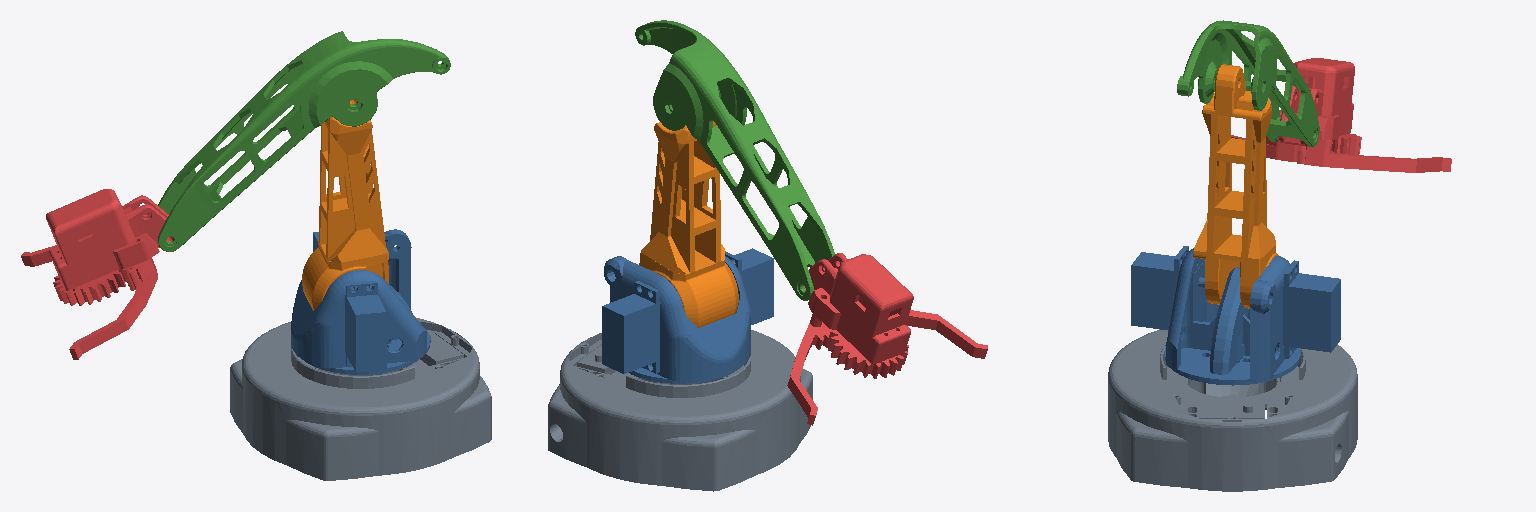
URDF robot description (digital_twin_arm):
<?xml version="1.0" encoding="UTF-8"?>
<!--
  Auto-generated from front/web/joints.json
  Source SLDASM: (29课最后保存)(答案)夹爪装配体.SLDASM | 装配体（整体）4.SLDASM
  Notes:
  1) This URDF uses current demo chain base->j1->j2->j3->j4.
  2) STL coordinates are assumed to be assembly-global (mm), so link visual origins are auto-offset.
  3) STL mesh scale is set to 0.001 (mm -> m).
-->
<robot name="digital_twin_arm">

  <link name="link_base">
    <visual name="visual_1">
      <origin xyz="0.000000 0.000000 0.000000" rpy="0 0 0"/>
      <geometry>
        <mesh filename="../raw/suarmt_global_base_link.STL" scale="0.001 0.001 0.001"/>
      </geometry>
      <material name="mat_base_1">
        <color rgba="0.4941 0.5412 0.5922 1.0"/>
      </material>
    </visual>
  </link>

  <link name="link_j1">
    <visual name="visual_1">
      <origin xyz="0.057106 0.180872 0.220243" rpy="0 0 0"/>
      <geometry>
        <mesh filename="../raw/suarmt_global_01.STL" scale="0.001 0.001 0.001"/>
      </geometry>
      <material name="mat_j1_1">
        <color rgba="0.3059 0.4745 0.6549 1.0"/>
      </material>
    </visual>
  </link>

  <link name="link_j2">
    <visual name="visual_1">
      <origin xyz="0.055953 0.188362 0.174243" rpy="0 0 0"/>
      <geometry>
        <mesh filename="../raw/suarmt_global_02.STL" scale="0.001 0.001 0.001"/>
      </geometry>
      <material name="mat_j2_1">
        <color rgba="0.9490 0.5569 0.1686 1.0"/>
      </material>
    </visual>
  </link>

  <link name="link_j3">
    <visual name="visual_1">
      <origin xyz="0.064622 0.179857 0.039246" rpy="0 0 0"/>
      <geometry>
        <mesh filename="../raw/suarmt_global_03.STL" scale="0.001 0.001 0.001"/>
      </geometry>
      <material name="mat_j3_1">
        <color rgba="0.3490 0.6314 0.3098 1.0"/>
      </material>
    </visual>
  </link>

  <link name="link_j4">
    <visual name="visual_1">
      <origin xyz="0.176396 0.143260 0.124058" rpy="0 0 0"/>
      <geometry>
        <mesh filename="../raw/suarmt_global_04.STL" scale="0.001 0.001 0.001"/>
      </geometry>
      <material name="mat_j4_1">
        <color rgba="0.8824 0.3412 0.3490 1.0"/>
      </material>
    </visual>
    <visual name="visual_2">
      <origin xyz="0.176396 0.143260 0.124058" rpy="0 0 0"/>
      <geometry>
        <mesh filename="../raw/suarmt_global_05.STL" scale="0.001 0.001 0.001"/>
      </geometry>
      <material name="mat_j4_2">
        <color rgba="0.8824 0.3412 0.3490 1.0"/>
      </material>
    </visual>
    <visual name="visual_3">
      <origin xyz="0.176396 0.143260 0.124058" rpy="0 0 0"/>
      <geometry>
        <mesh filename="../raw/suarmt_global_06.STL" scale="0.001 0.001 0.001"/>
      </geometry>
      <material name="mat_j4_3">
        <color rgba="0.8824 0.3412 0.3490 1.0"/>
      </material>
    </visual>
    <visual name="visual_4">
      <origin xyz="0.176396 0.143260 0.124058" rpy="0 0 0"/>
      <geometry>
        <mesh filename="../raw/suarmt_global_07.STL" scale="0.001 0.001 0.001"/>
      </geometry>
      <material name="mat_j4_4">
        <color rgba="0.8824 0.3412 0.3490 1.0"/>
      </material>
    </visual>
  </link>

  <joint name="J1" type="revolute">
    <parent link="link_base"/>
    <child link="link_j1"/>
    <origin xyz="-0.057106 -0.180872 -0.220243" rpy="0 0 0"/>
    <axis xyz="0.000000 0.000000 1.000000"/>
    <limit lower="-2.443461" upper="2.443461" effort="10.0" velocity="3.0"/>
  </joint>

  <joint name="J2" type="revolute">
    <parent link="link_j1"/>
    <child link="link_j2"/>
    <origin xyz="0.001153 -0.007489 0.046000" rpy="0 0 0"/>
    <axis xyz="0.000000 1.000000 0.000000"/>
    <limit lower="-2.007129" upper="2.007129" effort="10.0" velocity="3.0"/>
  </joint>

  <joint name="J3" type="revolute">
    <parent link="link_j2"/>
    <child link="link_j3"/>
    <origin xyz="-0.008669 0.008505 0.134996" rpy="0 0 0"/>
    <axis xyz="0.000000 1.000000 0.000000"/>
    <limit lower="-2.094395" upper="2.094395" effort="10.0" velocity="3.0"/>
  </joint>

  <joint name="J4" type="revolute">
    <parent link="link_j3"/>
    <child link="link_j4"/>
    <origin xyz="-0.111774 0.036597 -0.084811" rpy="0 0 0"/>
    <axis xyz="0.000000 1.000000 0.000000"/>
    <limit lower="-2.094395" upper="2.094395" effort="10.0" velocity="3.0"/>
  </joint>

</robot>

--- Facts derived from the render (not from the file) ---
The picture shows the robot from 3 angles, left to right: view 1: azimuth 30°, elevation 25°; view 2: azimuth 150°, elevation 25°; view 3: azimuth 270°, elevation 25°; orthographic projection.
Model digital_twin_arm with 5 links and 4 joints (4 revolute), rooted at link_base, posed all joints at 0.
Visible links, largest first — view 1: link_base, link_j3, link_j4, link_j1, link_j2; view 2: link_base, link_j3, link_j1, link_j4, link_j2; view 3: link_base, link_j1, link_j2, link_j3, link_j4.
Boxes of the visible links, bbox=[...] form: link_base: bbox=[230, 317, 491, 480]; link_j3: bbox=[157, 31, 450, 251]; link_j4: bbox=[21, 189, 172, 359]; link_j1: bbox=[291, 229, 430, 374]; link_j2: bbox=[302, 99, 388, 310]; link_base: bbox=[548, 330, 812, 491]; link_j3: bbox=[635, 20, 834, 300]; link_j1: bbox=[602, 248, 773, 383]; link_j4: bbox=[787, 253, 987, 425]; link_j2: bbox=[639, 121, 738, 327]; link_base: bbox=[1108, 329, 1357, 491]; link_j1: bbox=[1131, 246, 1340, 385]; link_j2: bbox=[1193, 64, 1278, 308]; link_j3: bbox=[1177, 20, 1319, 146]; link_j4: bbox=[1231, 58, 1451, 172].
Bounding box of the posed robot: 0.2911 × 0.2067 × 0.2729 m (x, y, z).
Meshes: 8 distinct files referenced, 8 mesh visuals loaded (8 binary STL).
